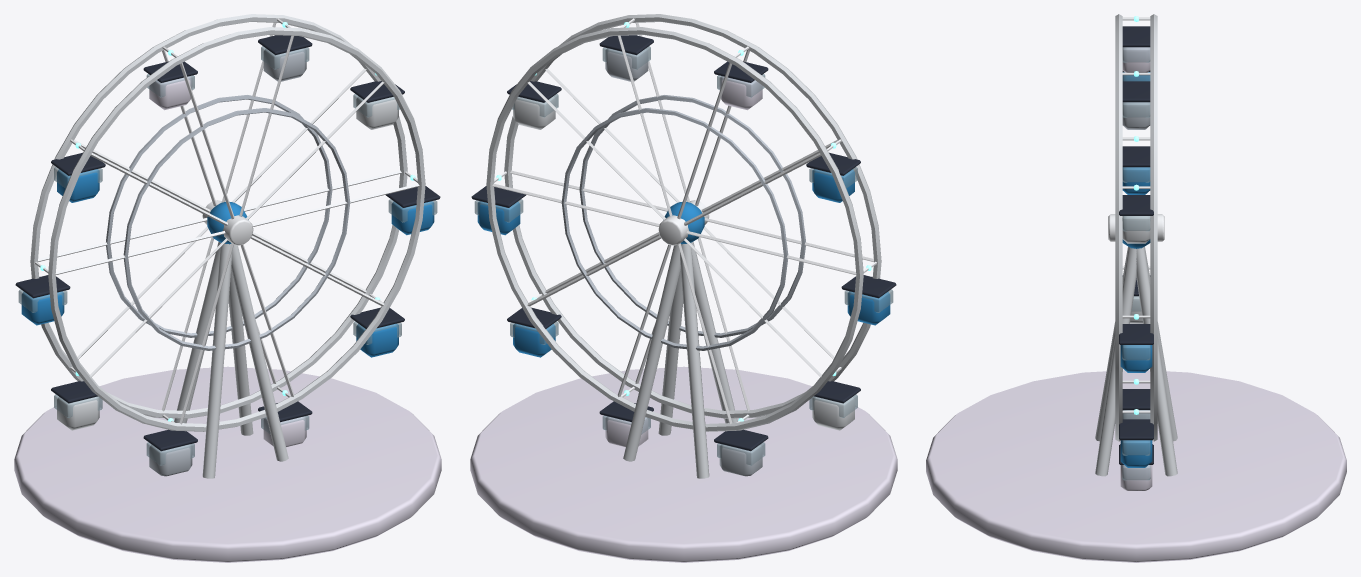
The model's file is ferris_wheel_mini.glb.
The picture shows the model from 3 angles, left to right: view 1: azimuth 30°, elevation 25°; view 2: azimuth 150°, elevation 25°; view 3: azimuth 270°, elevation 25°; orthographic projection.
Visible parts, largest first — view 1: ferris_wheel_mini; view 2: ferris_wheel_mini; view 3: ferris_wheel_mini.
Part boxes in pixels (left/top/right/bottom): ferris_wheel_mini: left=14, top=14, right=441, bottom=562; ferris_wheel_mini: left=470, top=14, right=897, bottom=562; ferris_wheel_mini: left=926, top=14, right=1346, bottom=562.
Bounding box in the file's own units: 6.62 × 6.96 × 6.
